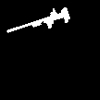double_crochet: (7, 8, 69, 31)
